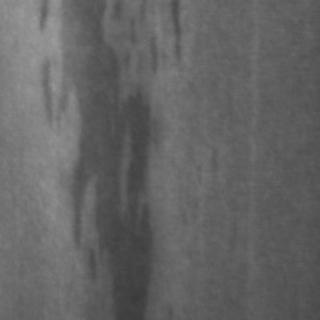inclusion: (34, 1, 158, 316), (162, 0, 186, 76)
